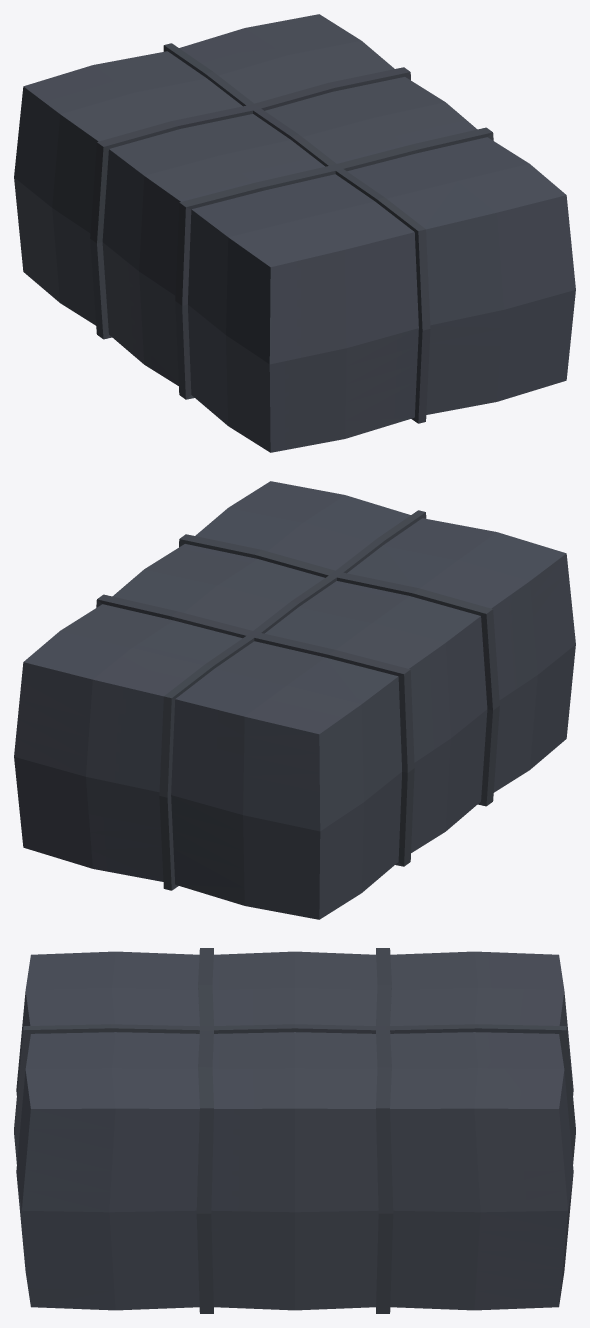
Rendered from Hay_02.fbx.
The picture shows the model from 3 angles, top to bottom: view 1: azimuth 30°, elevation 25°; view 2: azimuth 150°, elevation 25°; view 3: azimuth 270°, elevation 25°; orthographic projection. The views are drawn at different scales.
Visible parts, largest first — view 1: Hay_02; view 2: Hay_02; view 3: Hay_02.
Boxes of the visible parts, box(x1,y1,x2,y2) form: Hay_02: box(14, 14, 575, 452); Hay_02: box(14, 481, 575, 919); Hay_02: box(14, 948, 575, 1313).
Size of the model in its own units: 1.38 by 0.8129 by 1.97.
